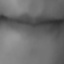Non-MouthFatigue: (1, 5, 64, 41)
